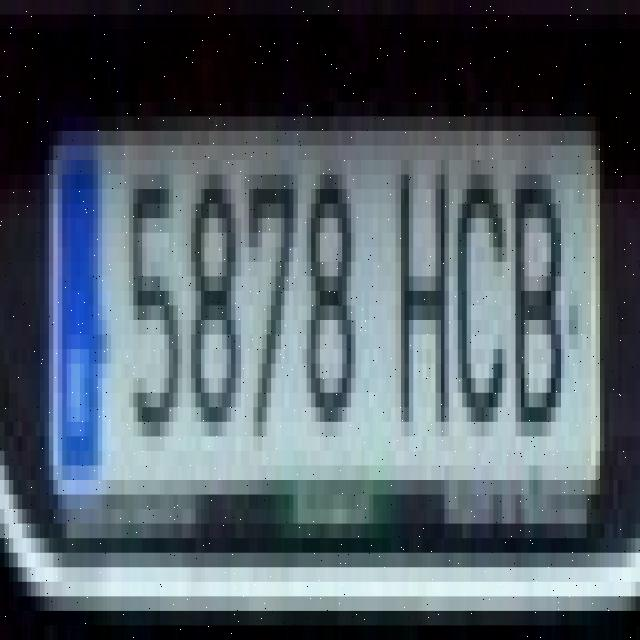licenseplate: (23, 73, 606, 558)
